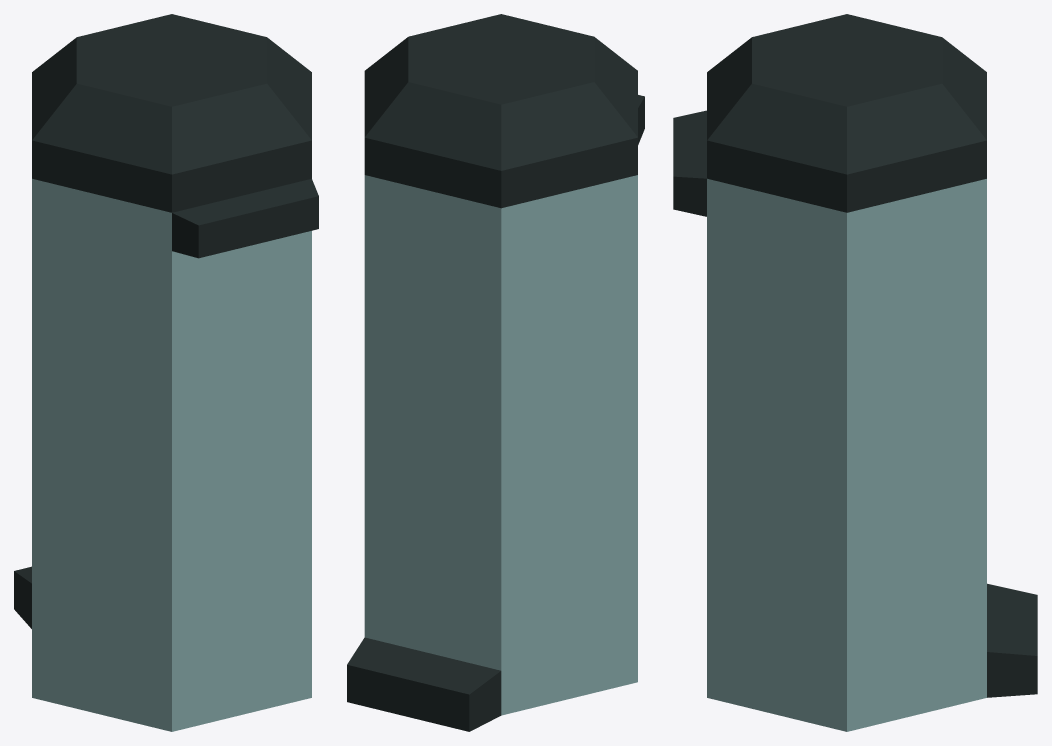
The model's file is trashcan.glb.
The picture shows the model from 3 angles, left to right: view 1: azimuth 30°, elevation 25°; view 2: azimuth 150°, elevation 25°; view 3: azimuth 270°, elevation 25°; orthographic projection. The views are drawn at different scales.
Parts seen in each view (by area): view 1: trashcan; view 2: trashcan; view 3: trashcan.
Part boxes in pixels (box(x1,y1,x2,y2)): trashcan: box(14, 14, 318, 731); trashcan: box(347, 14, 644, 731); trashcan: box(673, 14, 1037, 731).
Bounding box in the file's own units: 0.4154 × 0.8557 × 0.4682.
